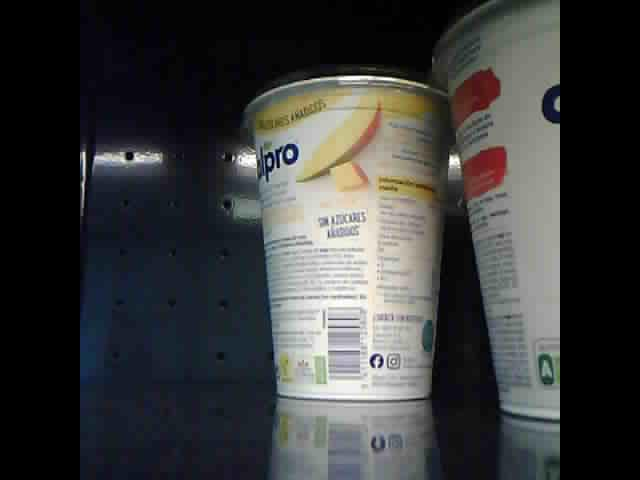alpro: (241, 61, 448, 405), (431, 1, 571, 424)
